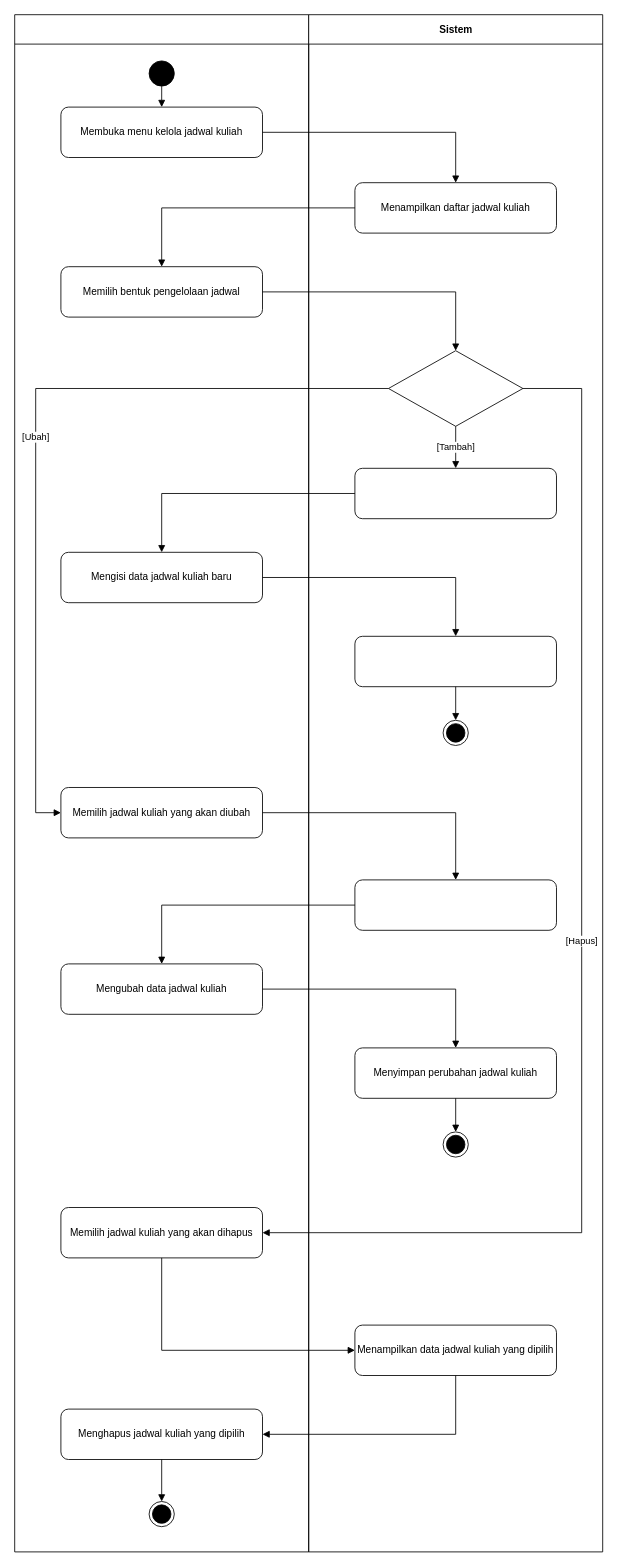
The diagram is 617 pixels wide and 1567 high, and some of its shapes have lost their labels. The shapes that lost their labels are listed below. From the top down, each one's box as (x1, y1, x2, y2) in pixels, then its label:
(388, 350, 523, 426): Bentuk pengelolaan yang dipilih?
(354, 467, 556, 519): Menampilkan formulir jadwal kuliah baru
(354, 635, 556, 687): Menyimpan jadwal kuliah baru
(14, 14, 309, 1552): Admin Akademik
(354, 879, 556, 930): Menampilkan data jadwal kuliah saat ini
